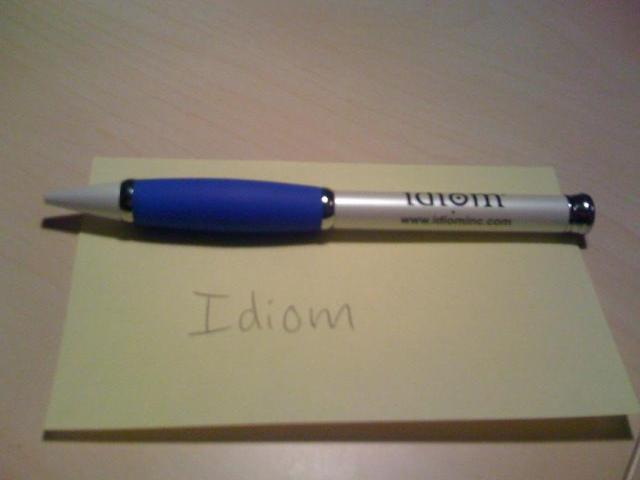PEN: (28, 163, 602, 273)
